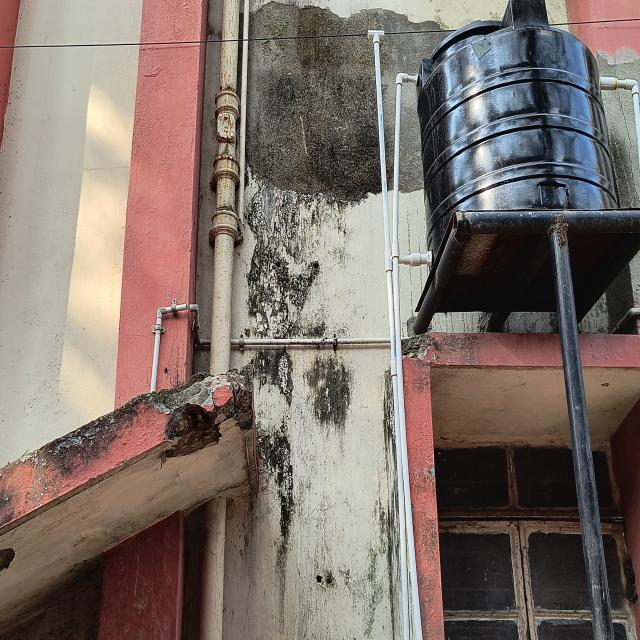spalling: (110, 382, 243, 439)
stain_mould: (233, 175, 403, 638)
